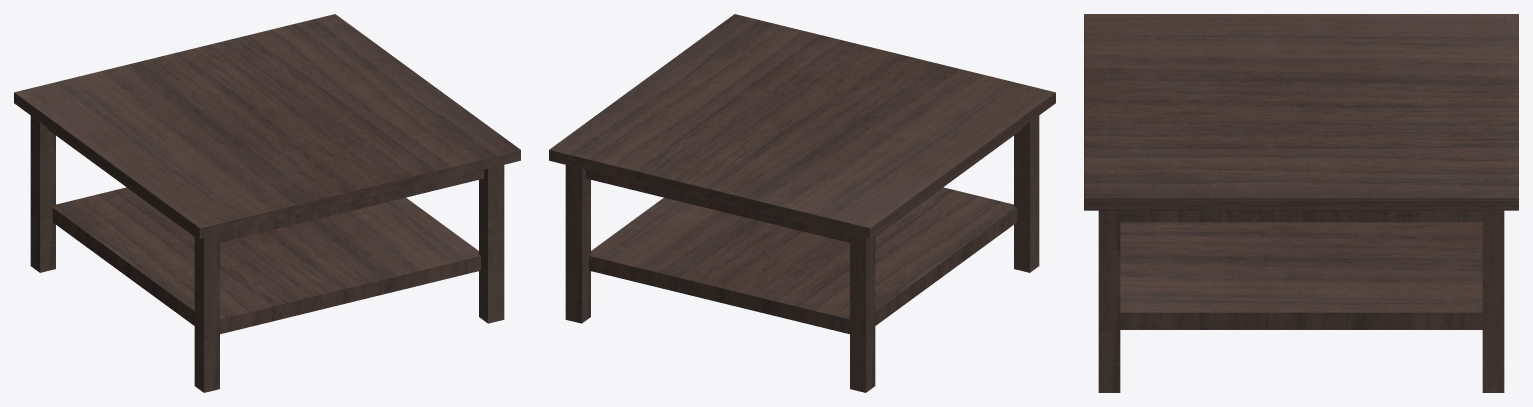
The model's file is IKEA-HEMNES_coffee_table_brown-3D.DAE.
The picture shows the model from 3 angles, left to right: view 1: azimuth 30°, elevation 25°; view 2: azimuth 150°, elevation 25°; view 3: azimuth 270°, elevation 25°; orthographic projection. The views are drawn at different scales.
Parts seen in each view (by area): view 1: Box001, Box006, Rectangle001, Box003; view 2: Box001, Box006, Rectangle001, Box002; view 3: Box001, Box006, Rectangle001, Box005.
Boxes of the visible parts, bbox=[...] form: Box001: bbox=[14, 14, 520, 238]; Box006: bbox=[52, 187, 480, 334]; Rectangle001: bbox=[30, 116, 504, 392]; Box003: bbox=[220, 170, 483, 242]; Box001: bbox=[549, 14, 1055, 238]; Box006: bbox=[589, 187, 1017, 334]; Rectangle001: bbox=[565, 116, 1039, 392]; Box002: bbox=[586, 170, 849, 242]; Box001: bbox=[1084, 14, 1518, 210]; Box006: bbox=[1120, 222, 1482, 329]; Rectangle001: bbox=[1098, 210, 1504, 392]; Box005: bbox=[1120, 210, 1482, 222].
Bounding box in the file's own units: 900 × 460 × 900.
